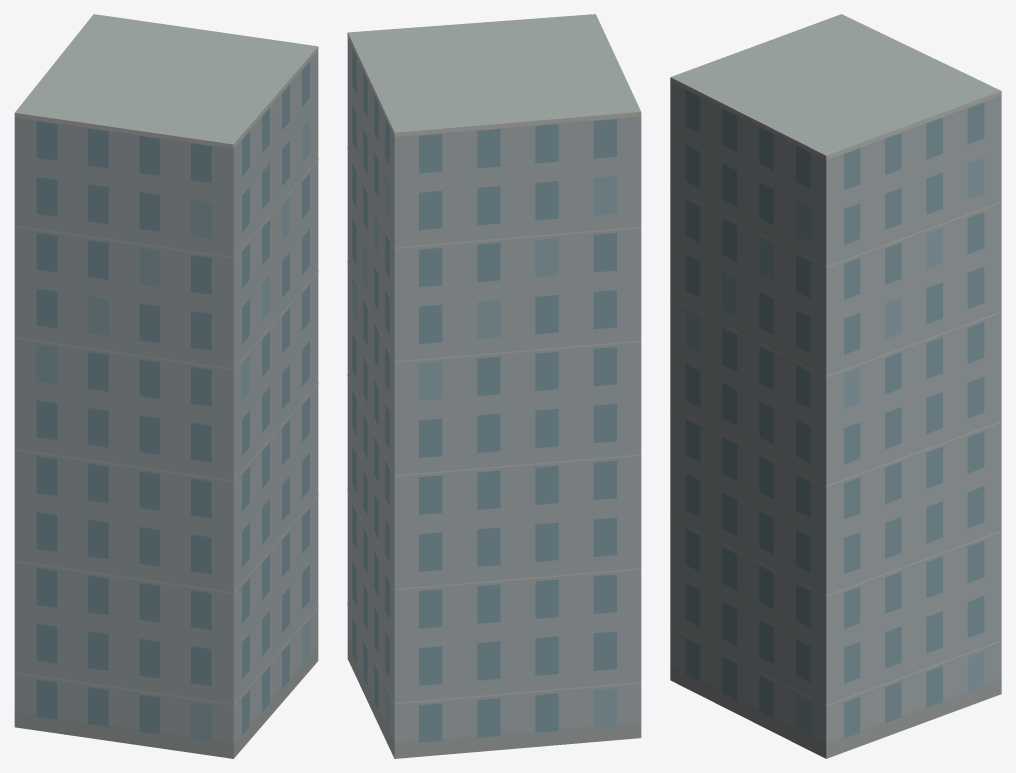
Rendered from survey-upis-32795341.glb.
3 views of the same model, side by side, from view 1: azimuth 30°, elevation 25°; view 2: azimuth 150°, elevation 25°; view 3: azimuth 270°, elevation 25° (orthographic). The views are drawn at different scales.
Visible parts, largest first — view 1: survey-upis-32795341.tmp; view 2: survey-upis-32795341.tmp; view 3: survey-upis-32795341.tmp.
Part boxes in pixels (x1,y1,x2,y2): survey-upis-32795341.tmp: [14, 14, 318, 758]; survey-upis-32795341.tmp: [347, 14, 641, 758]; survey-upis-32795341.tmp: [670, 14, 1001, 758].
Bounding box in the file's own units: 17.31 × 34.3 × 17.09.
